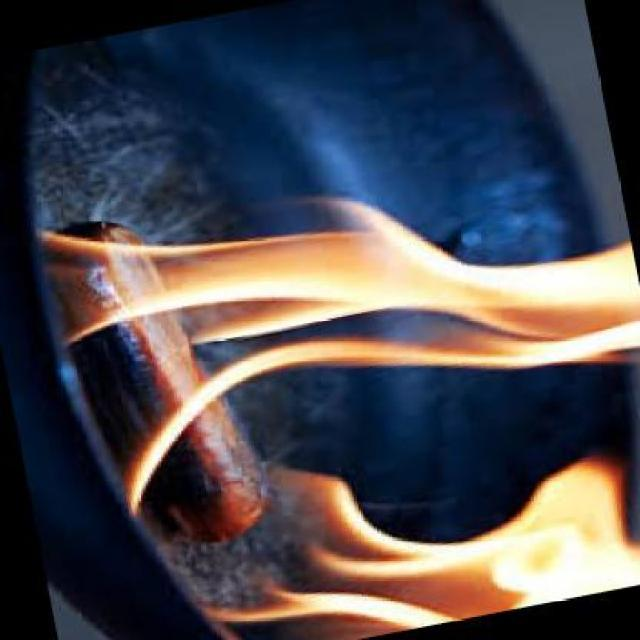Fire: (32, 191, 640, 631)
